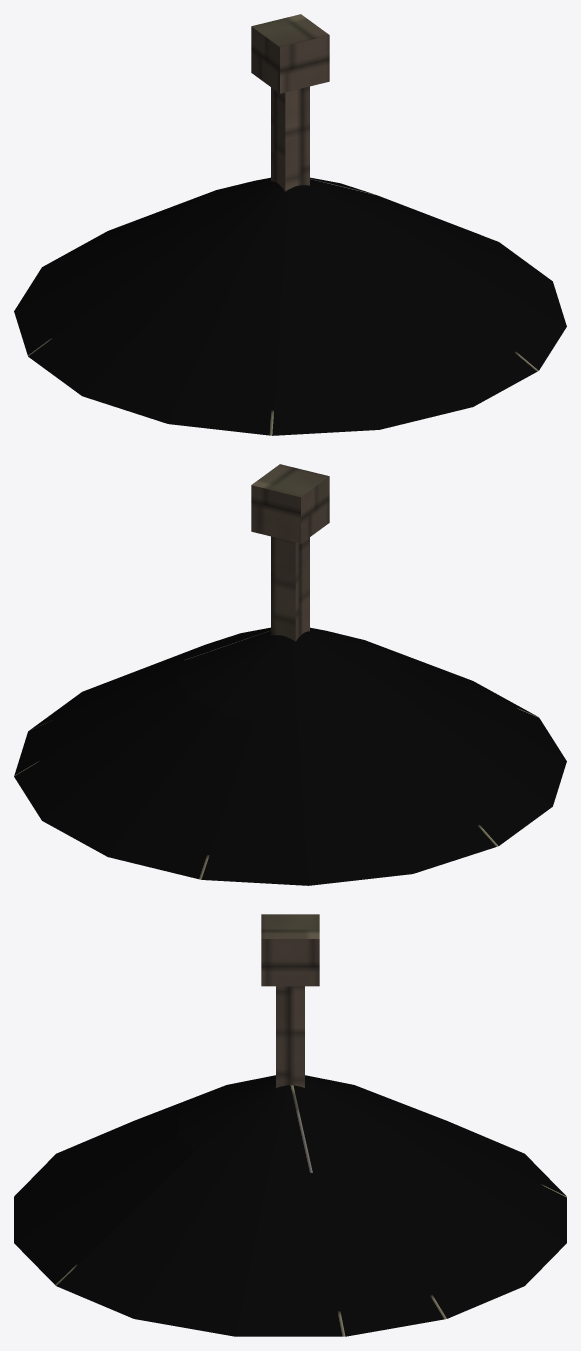
The model's file is moulin_corps_2.obj.
3 views of the same model, one above another, from view 1: azimuth 30°, elevation 25°; view 2: azimuth 150°, elevation 25°; view 3: azimuth 270°, elevation 25° (orthographic).
Parts seen in each view (by area): view 1: corps; view 2: corps; view 3: corps.
Part boxes in pixels (bbox=[...]): corps: bbox=[14, 14, 566, 435]; corps: bbox=[14, 464, 566, 885]; corps: bbox=[14, 914, 566, 1336].
Bounding box in the file's own units: 2.65 × 1.55 × 2.65.
